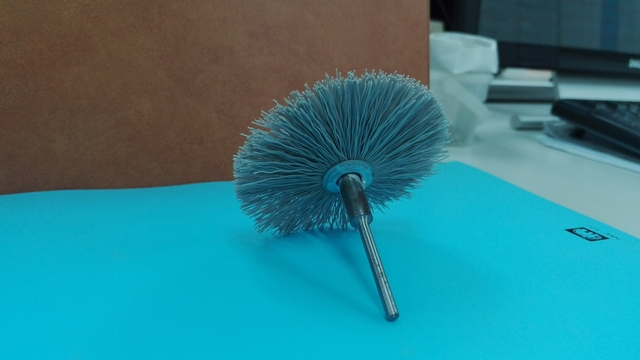TOOL: (215, 62, 490, 299), (234, 72, 438, 258)
